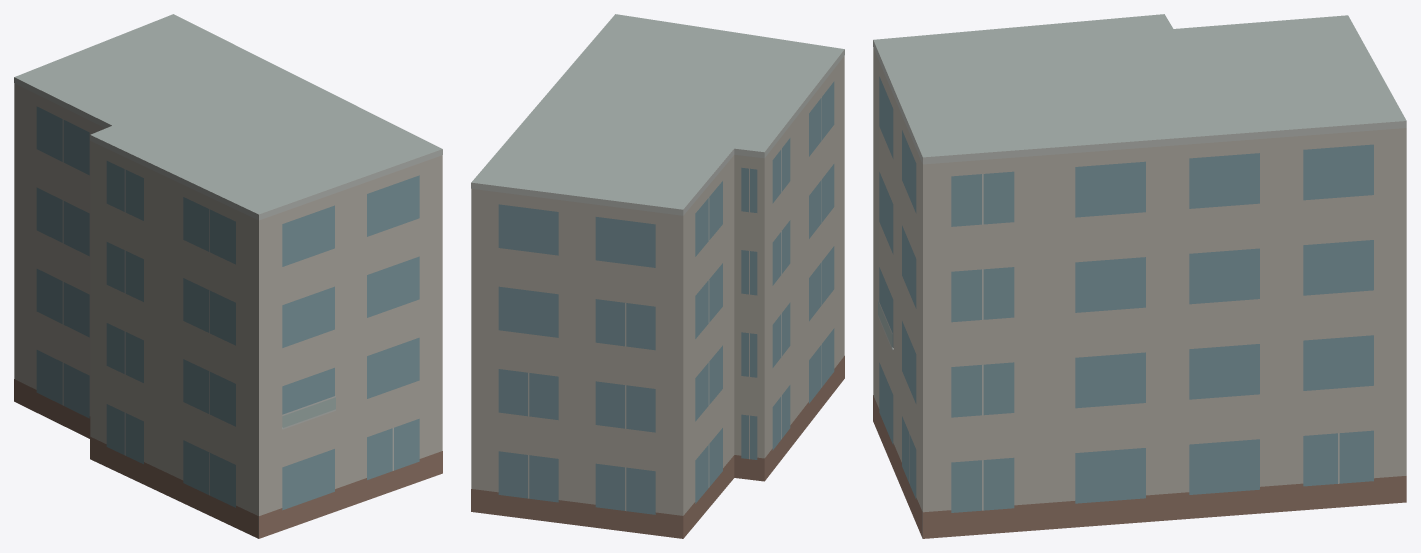
Rendered from survey-upis-32968302.glb.
3 views of the same model, side by side, from view 1: azimuth 30°, elevation 25°; view 2: azimuth 150°, elevation 25°; view 3: azimuth 270°, elevation 25° (orthographic). The views are drawn at different scales.
Visible parts, largest first — view 1: survey-upis-32968302.tmp; view 2: survey-upis-32968302.tmp; view 3: survey-upis-32968302.tmp.
Boxes of the visible parts, x1,y1,x2,y2 form: survey-upis-32968302.tmp: [14, 14, 442, 538]; survey-upis-32968302.tmp: [471, 14, 844, 538]; survey-upis-32968302.tmp: [873, 14, 1406, 538].
Bounding box in the file's own units: 10.65 × 13.2 × 16.74.
